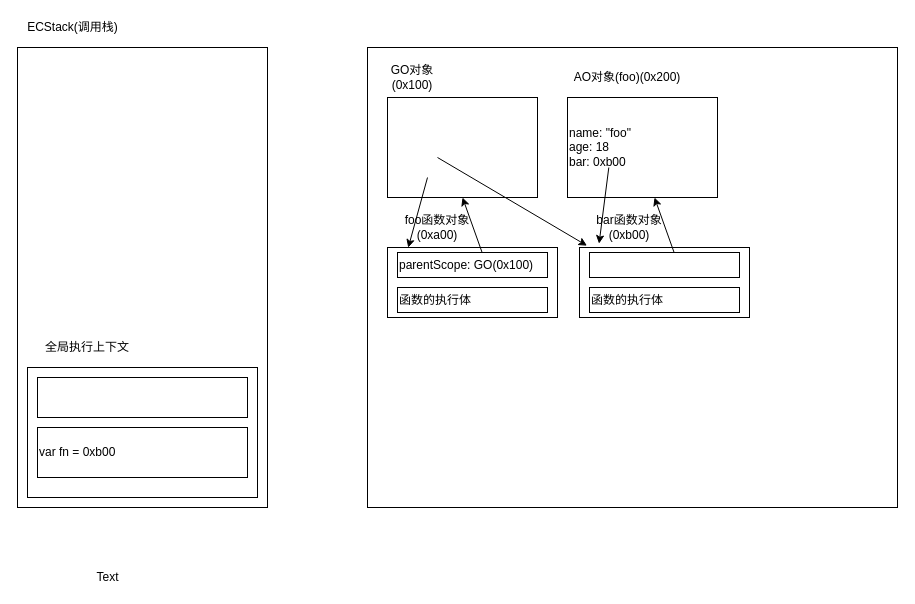
This 915x604 diagram has some shape labels left out. Here are the shapes that lost their labels. From the top down, the box of each, then its label:
(386, 96, 538, 198): Date String window fn: 0xb00 foo: 0xa00
(588, 252, 740, 278): parentScope: AO(0x200)
(36, 376, 248, 418): VO: GO
